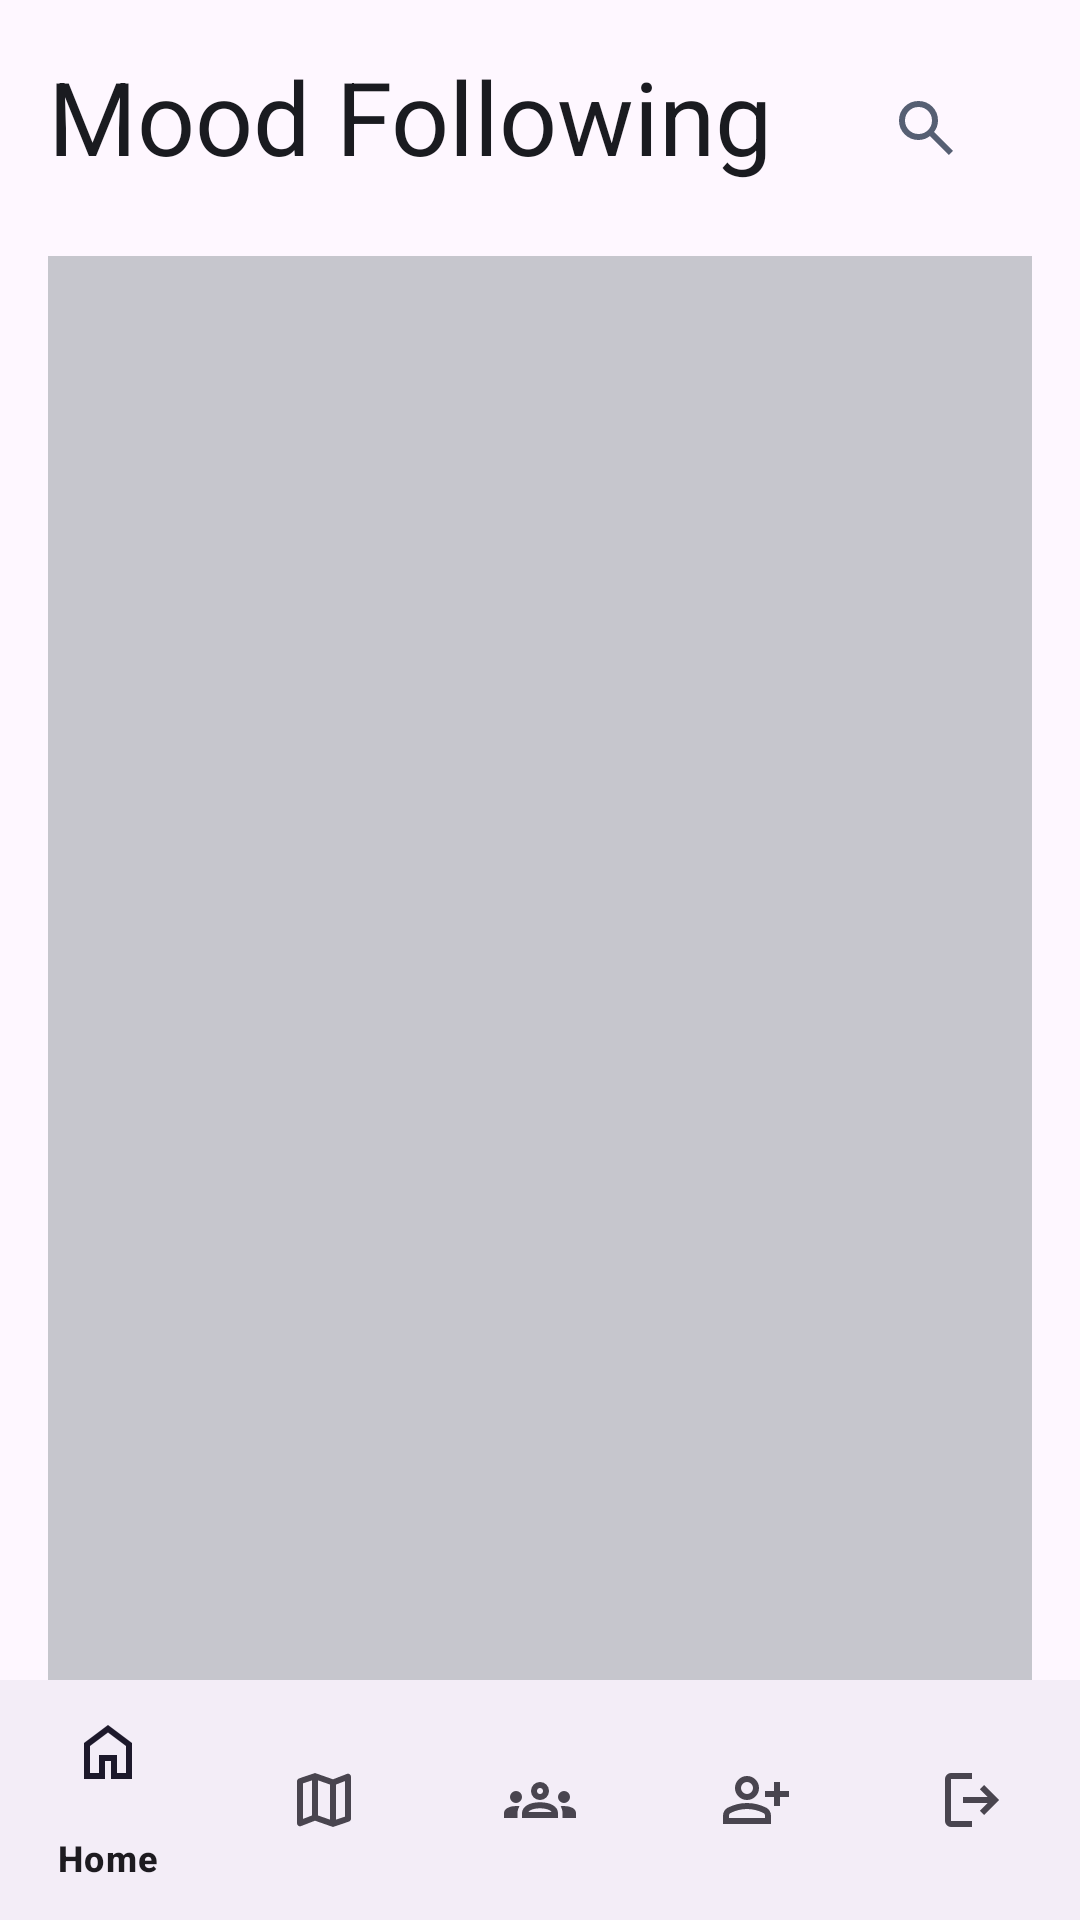

Screen size 1080*1920. Icon name, then its box in pixels as detection(x1, y1, x2, y2):
Search Users: detection(899, 101, 953, 155)
